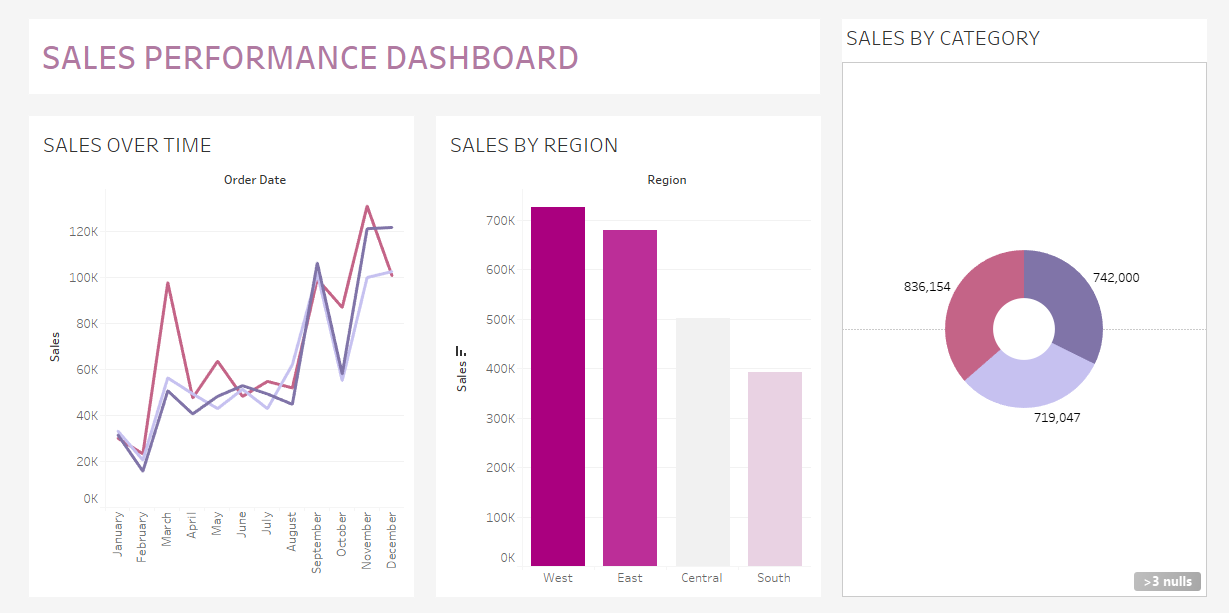

The dashboard page shown, as its layout file describes it:
{"tool":"tableau","page":{"name":"Dashboard 1","canvas":[1200,600],"ordinal":0},"visuals":[{"type":"text","box":[0,0,813,97]},{"type":"worksheet","title":"SALES BY CATEGORY","mark":"Automatic","rows":["Sales","Sales"],"box":[813,0,387,600]},{"type":"worksheet","title":"SALES OVER TIME","mark":"Line","rows":["Sales"],"cols":["Order Date"],"box":[0,97,406.5,503]},{"type":"worksheet","title":"SALES BY REGION","mark":"Bar","rows":["Sales"],"cols":["Region"],"box":[406.5,97,406.5,503]}]}

Visuals, with their boxes in screenshot pixels (x1, y1, x2, y2), scaled from the page's 1200x600 canvas onto the 1229x613 screenshot:
text: crop(0, 0, 833, 99)
"SALES BY CATEGORY" worksheet: crop(833, 0, 1228, 612)
"SALES OVER TIME" worksheet (Line marks): crop(0, 99, 416, 612)
"SALES BY REGION" worksheet (Bar marks): crop(416, 99, 833, 612)
